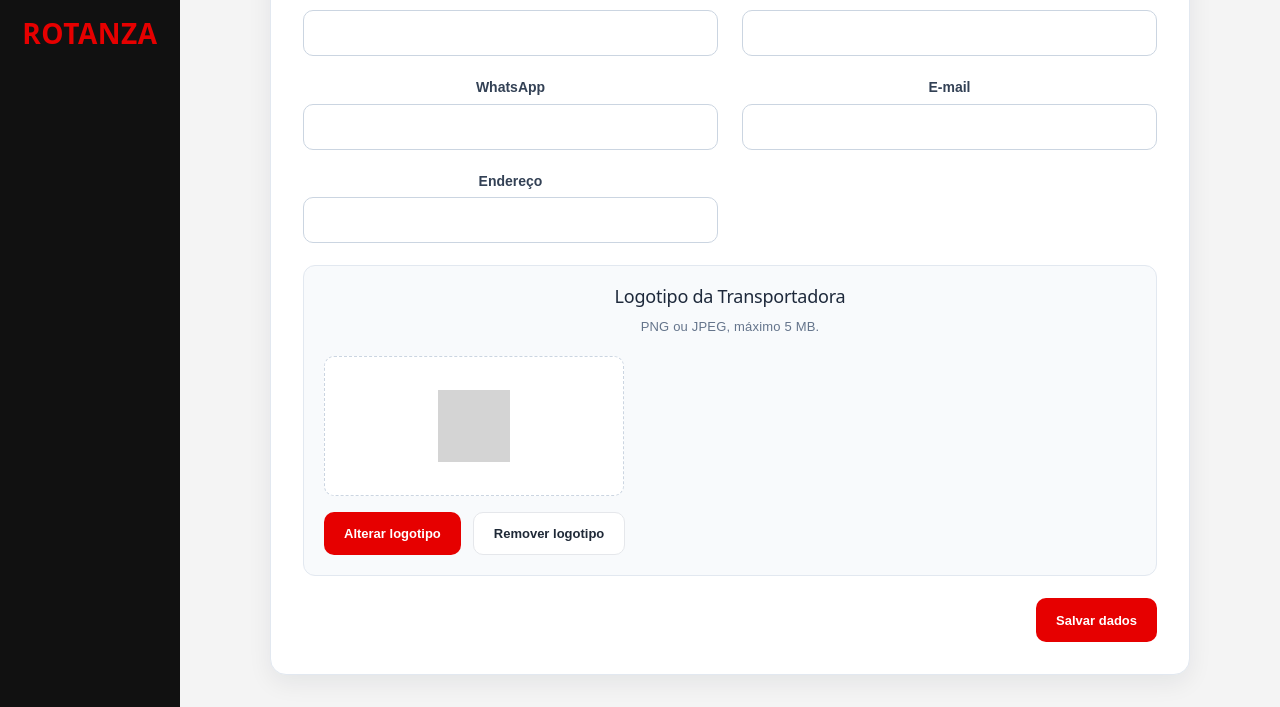
Dados da Transportadora › mantém logo atual e mostra erro de remoção
(page scrolled)
Click the button "Remover logotipo" at {"x": 549, "y": 534}, box x1=473 y1=512 x2=625 y2=555
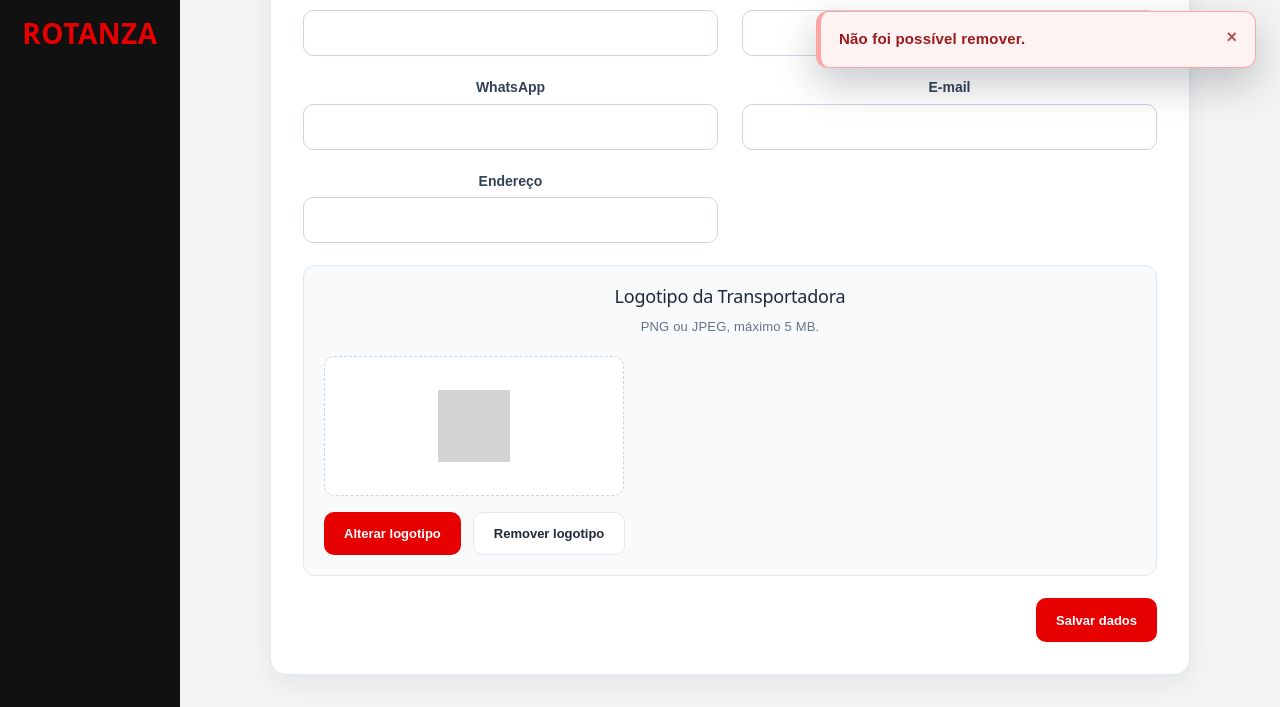
Expected: the message shows "Não foi possível remover.", x1=839 y1=30 x2=1025 y2=47
